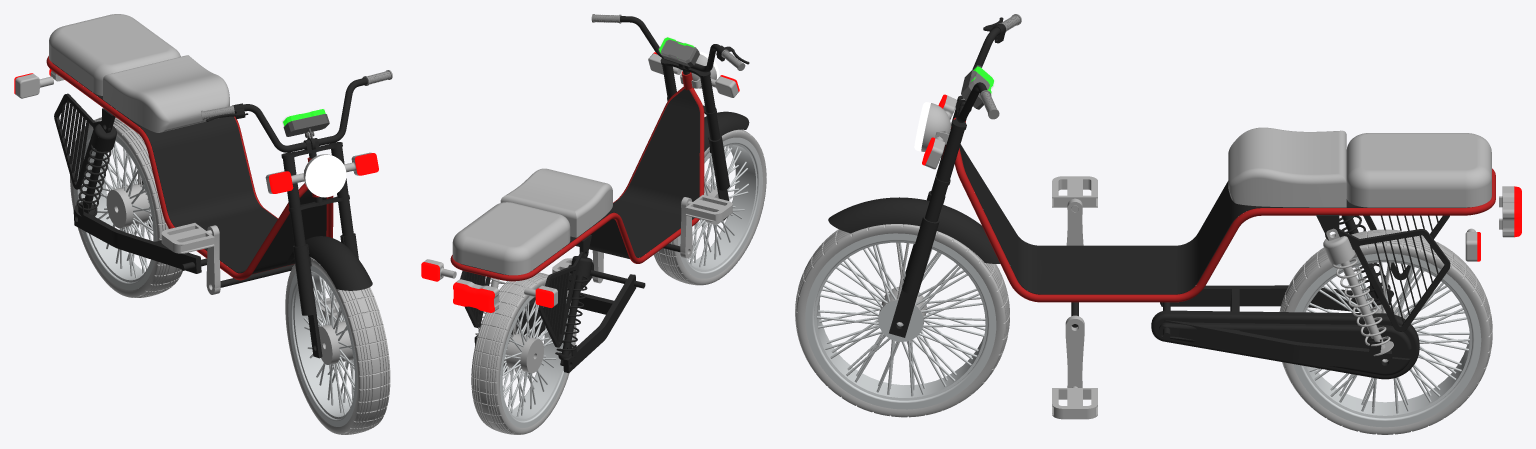
Rendered from bike2.glb.
3 renders of one model, left to right at view 1: azimuth 30°, elevation 25°; view 2: azimuth 150°, elevation 25°; view 3: azimuth 270°, elevation 25°, orthographic. The views are drawn at different scales.
Visible parts, largest first — view 1: frame-1, front tyre-2, front tyre-1, seat2-1, seatb2-1, front fork-1, swing arm-1, Mirrorside guard-2, front mud guard-1, pedal-2, Mirrorrear shocks-2, headlamp-1 (+5 smaller); view 2: frame-1, front tyre-1, front tyre-2, seatb2-1, seat2-1, front fork-1, swing arm-1, Mirrorside guard-2, pedal-2, Mirrorrear shocks-2, rearlights-1, hudb2-1 (+8 smaller); view 3: front tyre-2, frame-1, front tyre-1, seatb2-1, seat2-1, chain cover-1, swing arm-1, front mud guard-1, front fork-1, side guard-1, pedal-1, rear shocks-1 (+7 smaller).
Boxes of the visible parts, box(x1,y1,x2,y2) form: frame-1: box(46, 56, 333, 287); front tyre-2: box(285, 257, 390, 434); front tyre-1: box(70, 117, 182, 297); seat2-1: box(103, 55, 229, 132); seatb2-1: box(49, 14, 180, 95); front fork-1: box(281, 138, 358, 358); swing arm-1: box(73, 202, 201, 273); Mirrorside guard-2: box(54, 93, 110, 189); front mud guard-1: box(287, 236, 372, 290); pedal-2: box(161, 223, 220, 294); Mirrorrear shocks-2: box(74, 123, 116, 216); headlamp-1: box(303, 154, 346, 197); frame-1: box(450, 71, 704, 288); front tyre-1: box(471, 272, 576, 434); front tyre-2: box(654, 129, 766, 285); seatb2-1: box(452, 202, 570, 275); seat2-1: box(500, 168, 612, 237); front fork-1: box(660, 58, 729, 220); swing arm-1: box(474, 274, 636, 373); Mirrorside guard-2: box(538, 251, 588, 347); pedal-2: box(680, 195, 732, 258); Mirrorrear shocks-2: box(555, 251, 592, 365); rearlights-1: box(453, 279, 499, 312); hudb2-1: box(658, 37, 699, 67); front tyre-2: box(795, 224, 1009, 417); frame-1: box(941, 117, 1495, 339); front tyre-1: box(1279, 229, 1492, 434); seatb2-1: box(1346, 133, 1491, 207); seat2-1: box(1228, 127, 1346, 207); chain cover-1: box(1151, 310, 1419, 379); swing arm-1: box(1160, 282, 1391, 371); front mud guard-1: box(828, 197, 1000, 263); front fork-1: box(889, 95, 966, 337); side guard-1: box(1325, 228, 1450, 331); pedal-1: box(1052, 315, 1097, 419); rear shocks-1: box(1323, 228, 1393, 362).
Size of the model in its own units: 0.668 by 1.08 by 1.9.
